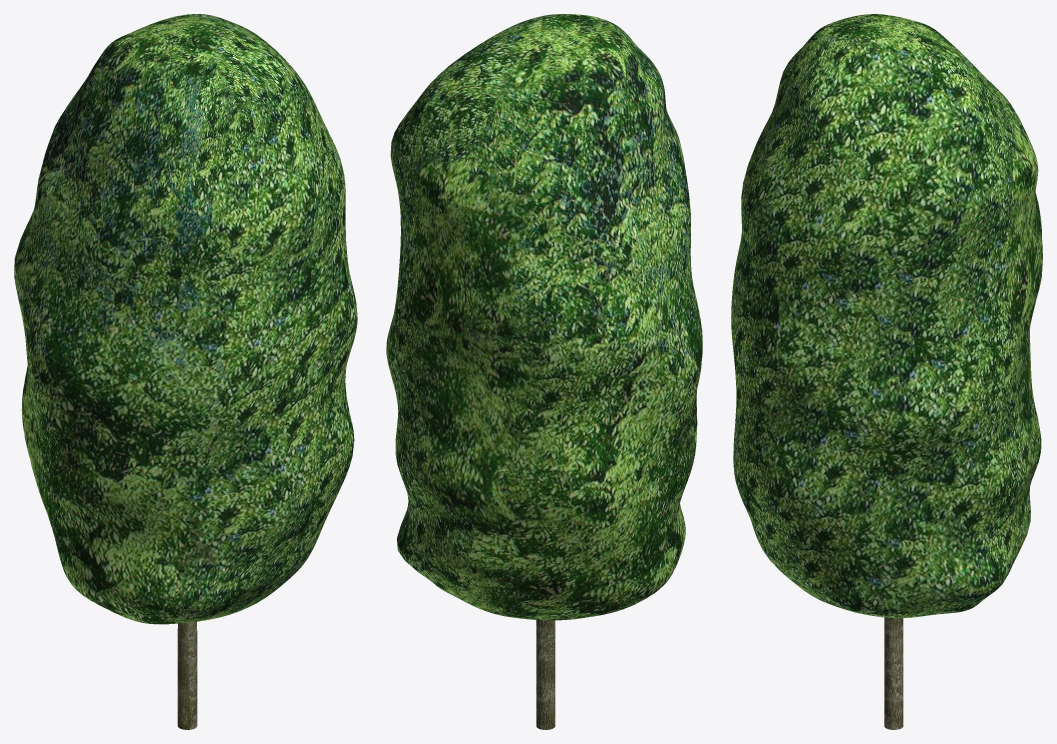
The model's file is 10459_White_Ash_Tree_v1_L4.obj.
The picture shows the model from 3 angles, left to right: view 1: azimuth 30°, elevation 25°; view 2: azimuth 150°, elevation 25°; view 3: azimuth 270°, elevation 25°; orthographic projection.
Visible parts, largest first — view 1: _White_Ash_Tree_v1_L3:_White_Ash_Tree_v1_SG; view 2: _White_Ash_Tree_v1_L3:_White_Ash_Tree_v1_SG; view 3: _White_Ash_Tree_v1_L3:_White_Ash_Tree_v1_SG.
Boxes of the visible parts, <box> form: _White_Ash_Tree_v1_L3:_White_Ash_Tree_v1_SG: <box>14,14,357,729</box>; _White_Ash_Tree_v1_L3:_White_Ash_Tree_v1_SG: <box>386,14,702,729</box>; _White_Ash_Tree_v1_L3:_White_Ash_Tree_v1_SG: <box>731,14,1042,729</box>.
Bounding box in the file's own units: 252 × 592 × 241.
1 material, 1 textured.
